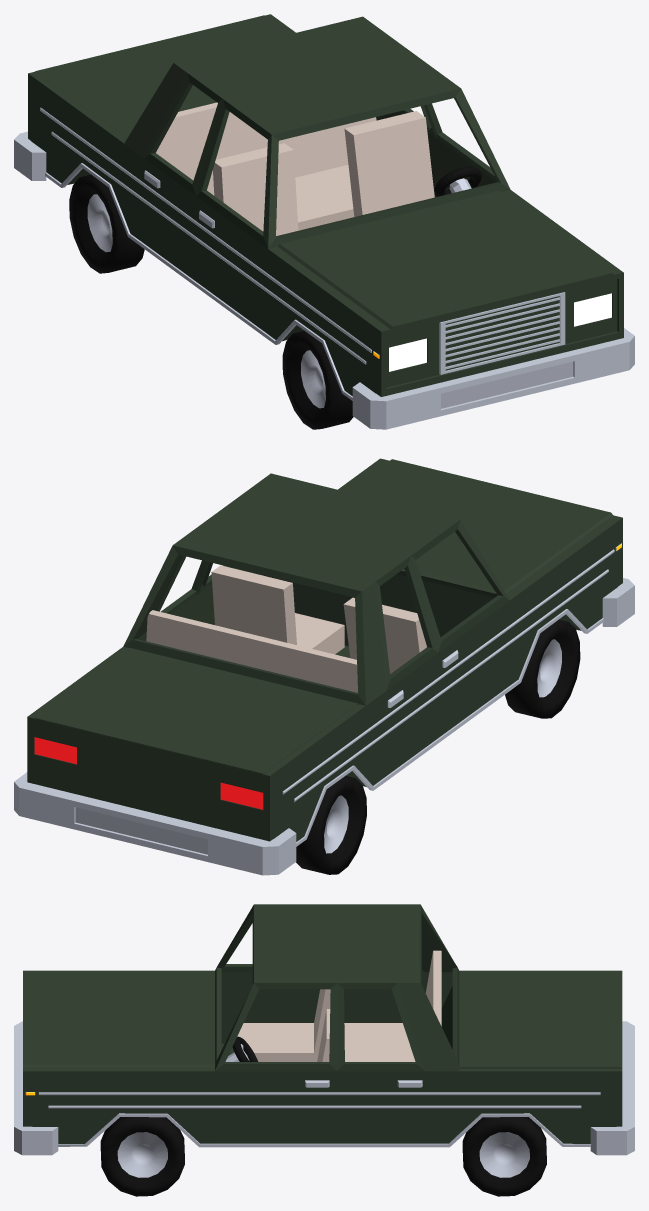
The model's file is car.glb.
3 renders of one model, top to bottom at view 1: azimuth 30°, elevation 25°; view 2: azimuth 150°, elevation 25°; view 3: azimuth 270°, elevation 25°, orthographic. The views are drawn at different scales.
Visible parts, largest first — view 1: car1, object 3, wheel_rear_right, wheel_front_right, object 5, object 2; view 2: car1, object 3, wheel_front_right, wheel_rear_right, object 6; view 3: car1, object 3, wheel_front_left, wheel_rear_left.
Boxes of the visible parts, <box> form: car1: <box>14,14,634,429</box>; object 3: <box>156,102,434,235</box>; wheel_rear_right: <box>69,174,144,273</box>; wheel_front_right: <box>282,330,353,429</box>; object 5: <box>389,293,611,371</box>; object 2: <box>434,166,481,196</box>; car1: <box>14,458,634,875</box>; object 3: <box>146,565,426,692</box>; wheel_front_right: <box>505,619,580,718</box>; wheel_rear_right: <box>296,775,366,874</box>; object 6: <box>34,737,263,809</box>; car1: <box>14,904,634,1155</box>; object 3: <box>237,950,441,1061</box>; wheel_front_left: <box>100,1117,184,1196</box>; wheel_rear_left: <box>462,1117,546,1196</box>.
Bounding box in the file's own units: 2.18 × 1.86 × 5.22.
